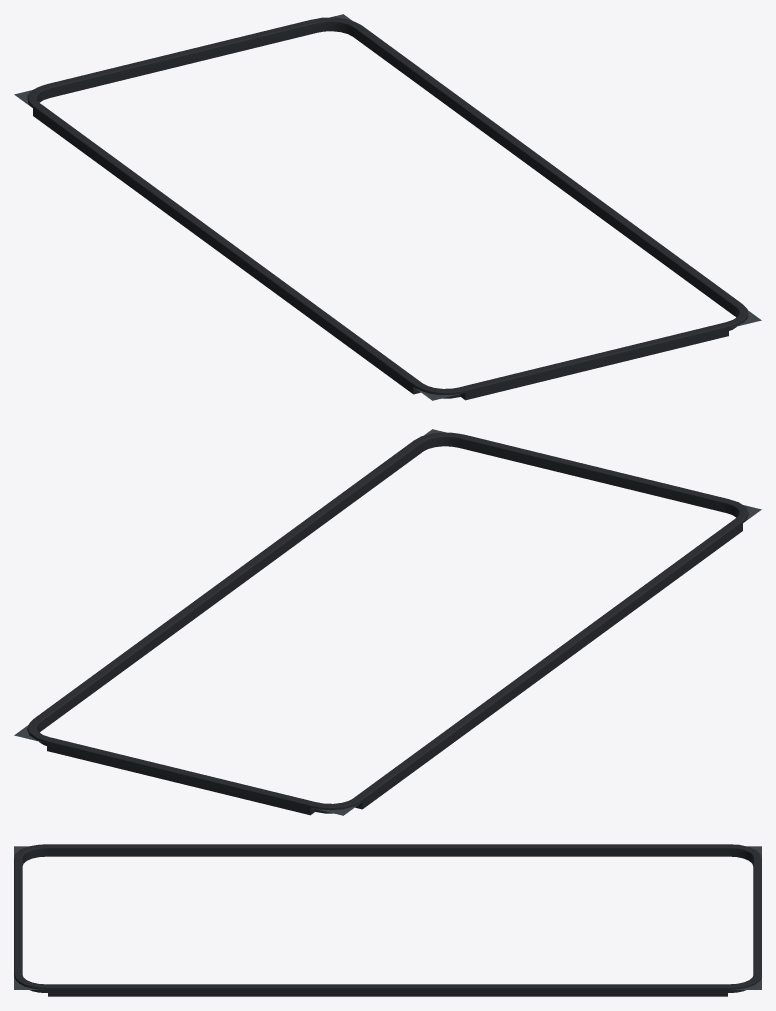
Rendered from Curb Tut1 Lvl1.fbx.
3 renders of one model, top to bottom at view 1: azimuth 30°, elevation 25°; view 2: azimuth 150°, elevation 25°; view 3: azimuth 270°, elevation 25°, orthographic. The views are drawn at different scales.
Parts seen in each view (by area): view 1: Curb Tut1 Lvl1; view 2: Curb Tut1 Lvl1; view 3: Curb Tut1 Lvl1.
Part boxes in pixels (<box>): Curb Tut1 Lvl1: <box>14,14,761,400</box>; Curb Tut1 Lvl1: <box>14,429,761,815</box>; Curb Tut1 Lvl1: <box>14,844,761,996</box>.
Size of the model in its own units: 1000 by 29.94 by 2200.
